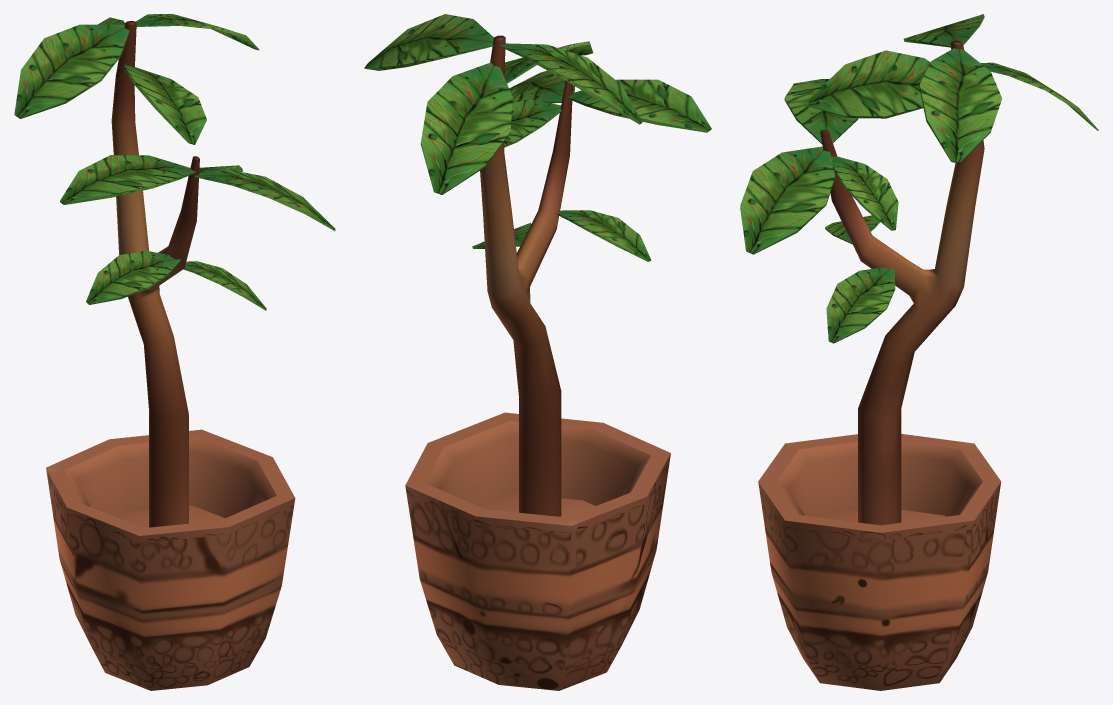
Rendered from potplant_mesh.fbx.
The picture shows the model from 3 angles, left to right: view 1: azimuth 30°, elevation 25°; view 2: azimuth 150°, elevation 25°; view 3: azimuth 270°, elevation 25°; orthographic projection. The views are drawn at different scales.
Visible parts, largest first — view 1: potplant_mesh; view 2: potplant_mesh; view 3: potplant_mesh.
Part boxes in pixels (<box>): potplant_mesh: <box>14,14,335,690</box>; potplant_mesh: <box>364,14,711,690</box>; potplant_mesh: <box>740,14,1098,690</box>.
Bounding box in the file's own units: 56.14 × 126 × 66.49.
